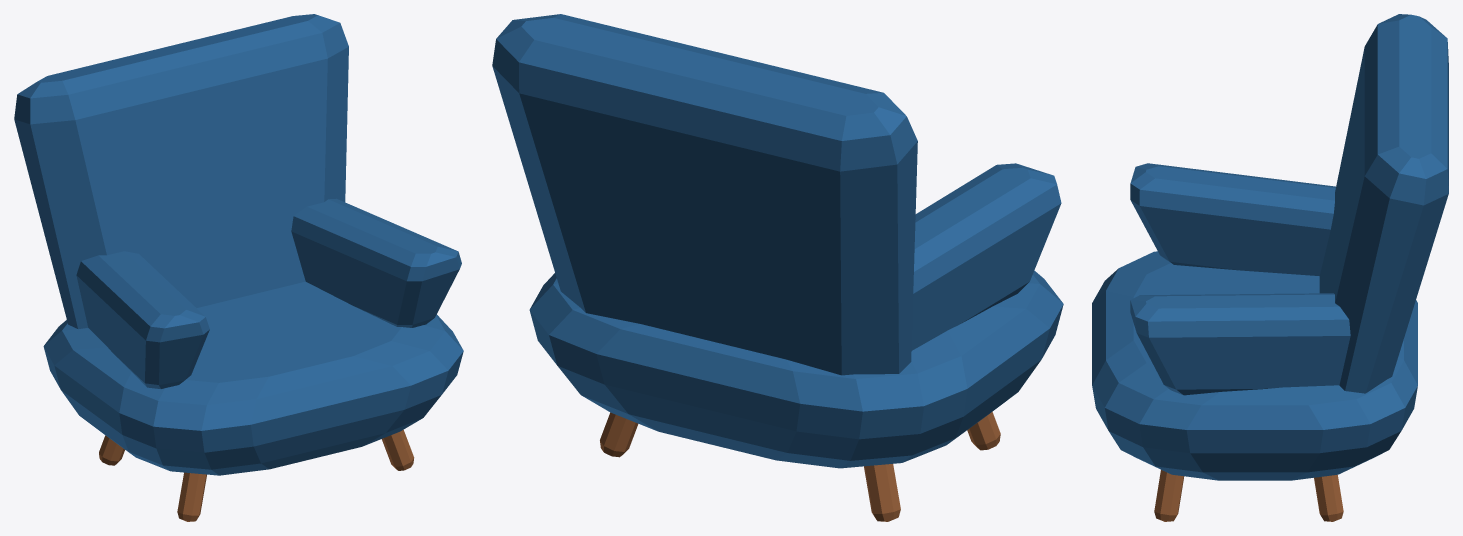
The model's file is Armchair.fbx.
3 renders of one model, left to right at view 1: azimuth 30°, elevation 25°; view 2: azimuth 150°, elevation 25°; view 3: azimuth 270°, elevation 25°, orthographic. The views are drawn at different scales.
Parts seen in each view (by area): view 1: Armchair; view 2: Armchair; view 3: Armchair.
Boxes of the visible parts, x1=… form: Armchair: x1=14, y1=14, x2=463, y2=521; Armchair: x1=492, y1=14, x2=1063, y2=521; Armchair: x1=1092, y1=14, x2=1448, y2=521.
Bounding box in the file's own units: 0.791 × 0.8231 × 0.6954.
1 material, 1 textured.
